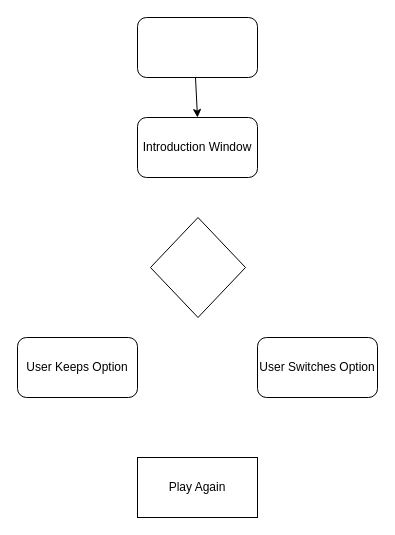
Image size: 395x535. Some labels were removed from this diagram. Here are the shapes that lost their labels. From the top down, the box of each, then its label:
(136, 16, 258, 78): Welcome Window
(150, 216, 246, 318): User Choose First Option
